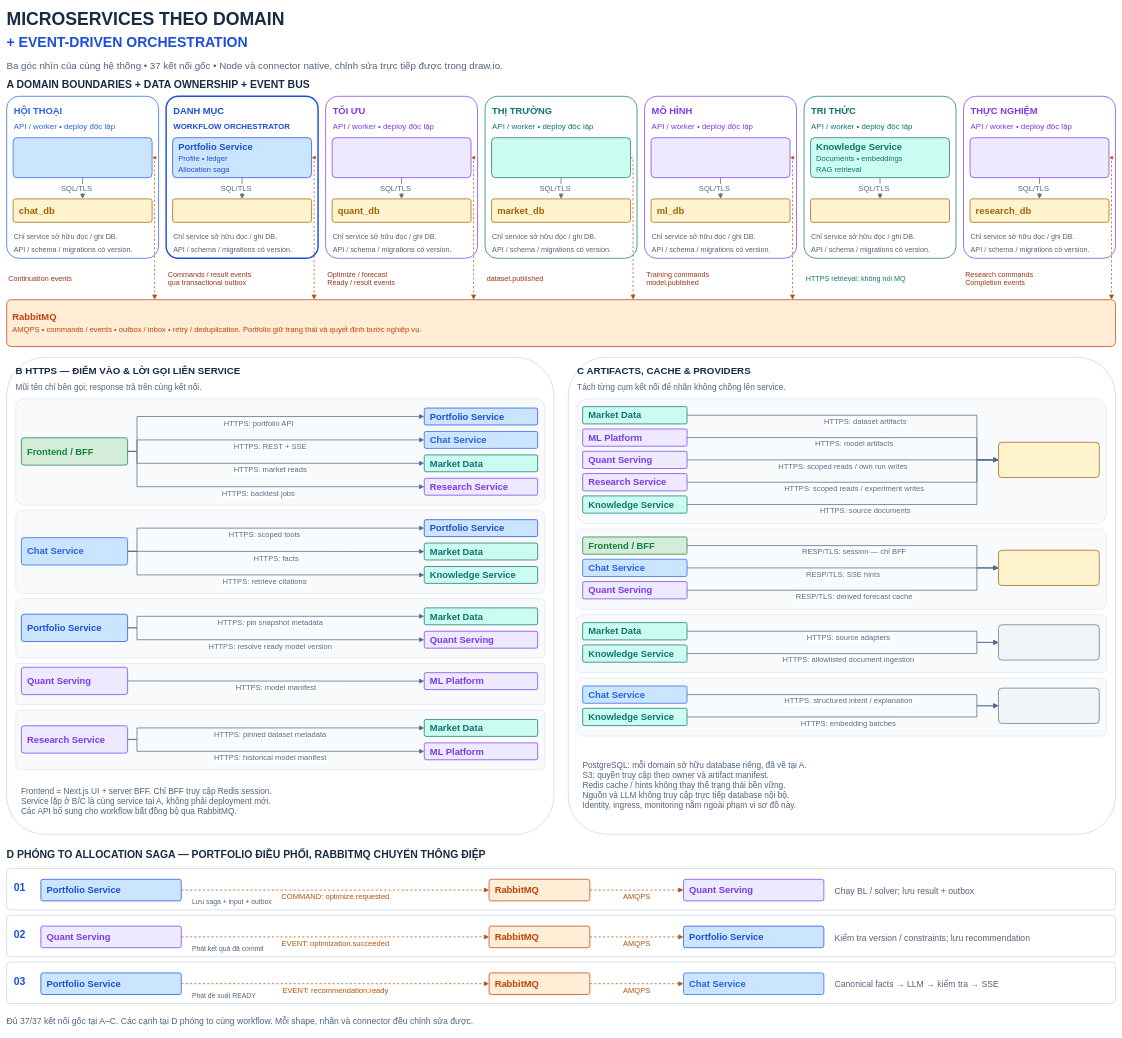
This 1122x1038 diagram has some shape labels left out. The centre of each missing label's shape, as x and y in pixels:
Chat Service Intent • tools Explanations • SSE: the point at 82,157
knowledge_db + pgvector: the point at 880,210
LLM / Embedding Hosted provider: the point at 1048,706
Market Data Ingestion • data quality Immutable snapshots: the point at 561,157
ML Platform Training • validation Model registry: the point at 720,157
portfolio_db: the point at 242,210
Quant Serving Forecasts • views Black–Litterman optimization: the point at 401,157
Redis Session / cache: the point at 1048,568
Research Service Backtest • experiments Thesis evidence: the point at 1039,157
S3 Owner + version: the point at 1048,460
Sources Giá / NAV / tài liệu: the point at 1048,642
